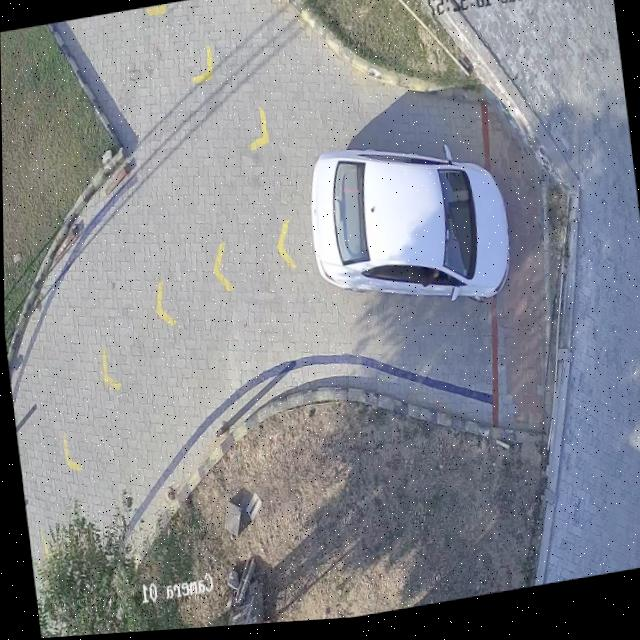car: (309, 154, 510, 307)
